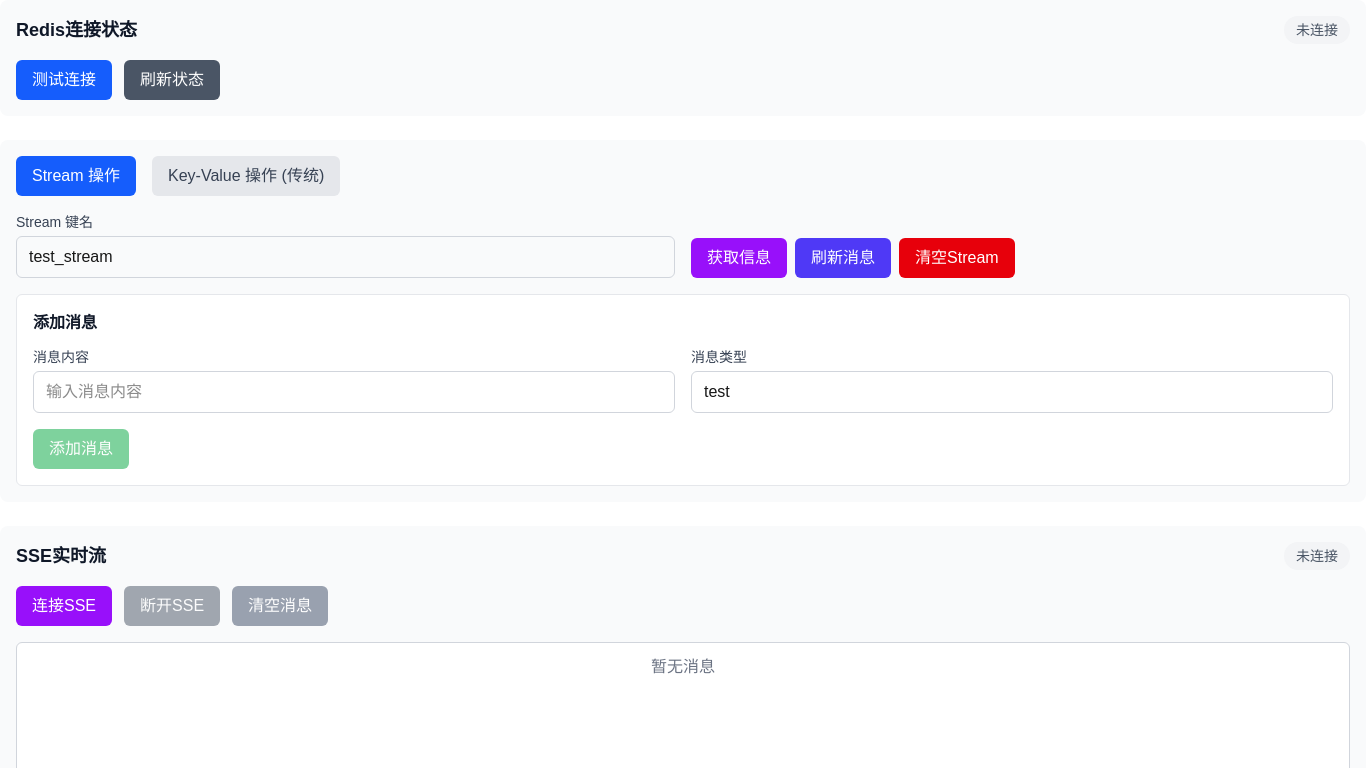
RedisTestComponent › 连接状态测试 › 应该能够刷新连接状态
This screenshot has width=1366, height=768.
Click the button "刷新状态".
click(172, 80)  # box [124,60,220,100]
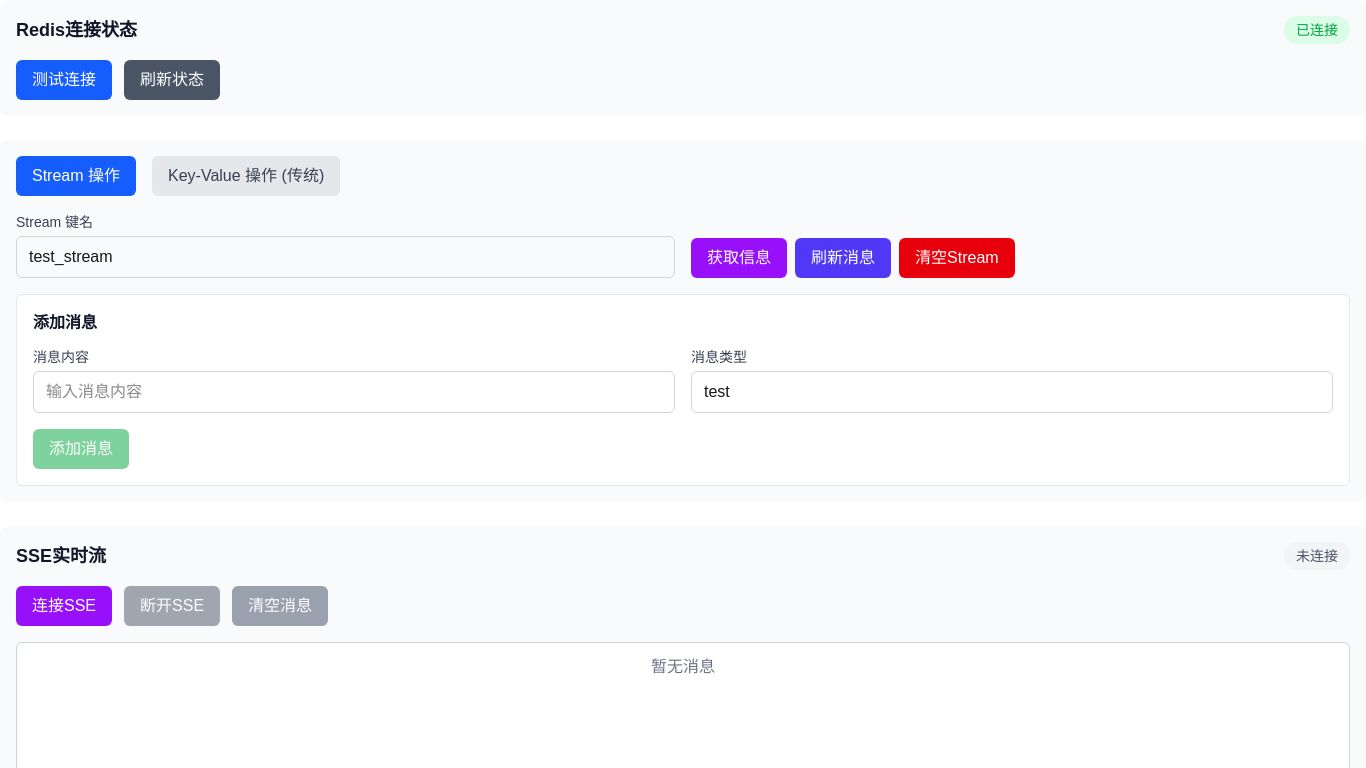
Expected: the text "已连接" is shown, [1284,16,1350,44]
